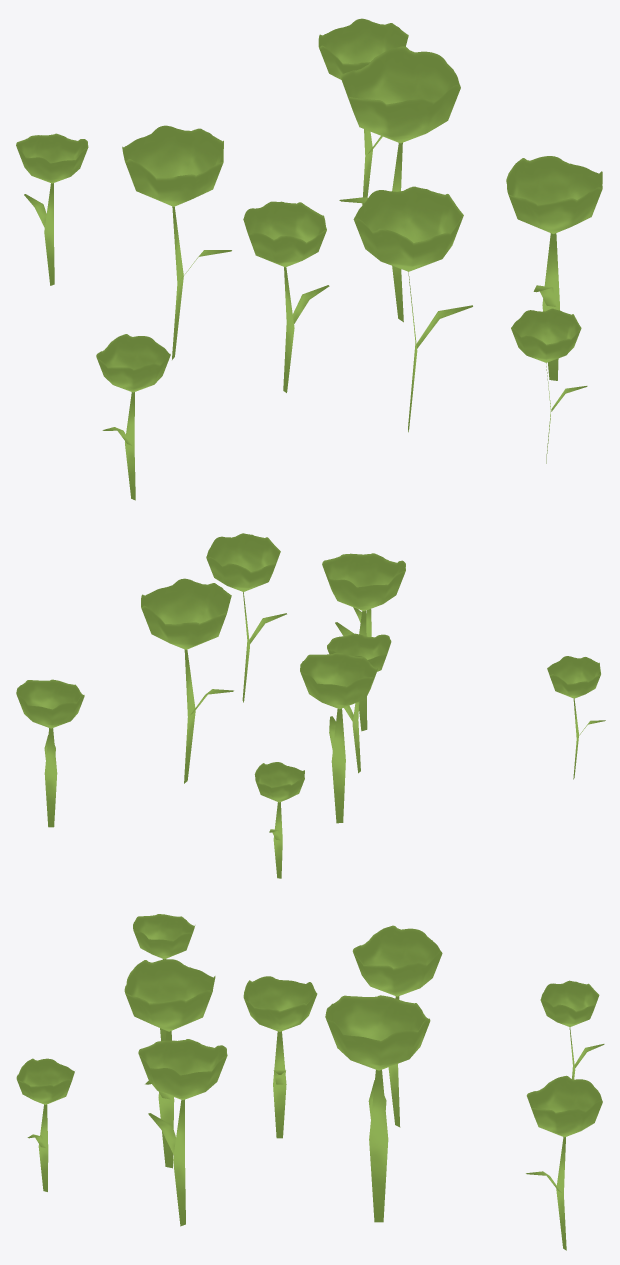
The model's file is Flower_01.fbx.
3 renders of one model, top to bottom at view 1: azimuth 30°, elevation 25°; view 2: azimuth 150°, elevation 25°; view 3: azimuth 270°, elevation 25°, orthographic. The views are drawn at different scales.
Visible parts, largest first — view 1: Flower_01_LOD0; view 2: Flower_01_LOD0; view 3: Flower_01_LOD0.
Part boxes in pixels (x1=…): Flower_01_LOD0: x1=16, y1=18, x2=602, y2=500; Flower_01_LOD0: x1=16, y1=533, x2=605, y2=878; Flower_01_LOD0: x1=16, y1=914, x2=604, y2=1250.
Size of what is drawn, in the model's own units: 65.2 by 28.84 by 72.1.
